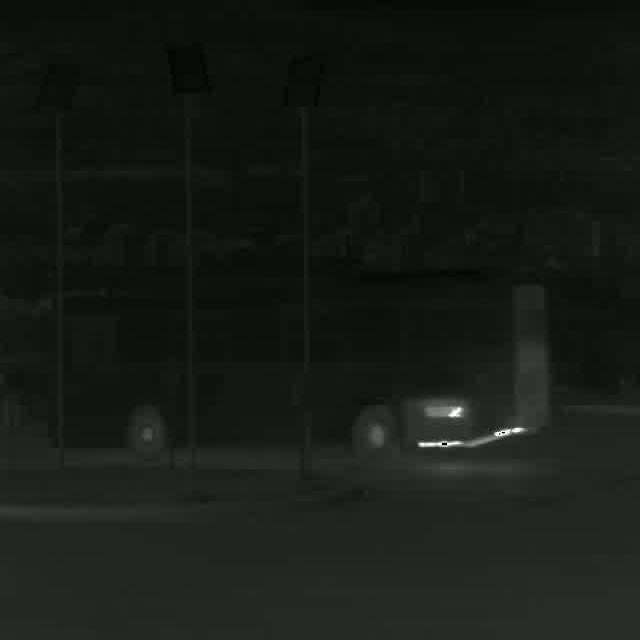Bus: (44, 264, 546, 456)
